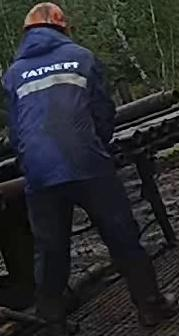helmet: (24, 2, 68, 32)
vest: (2, 27, 117, 188)
